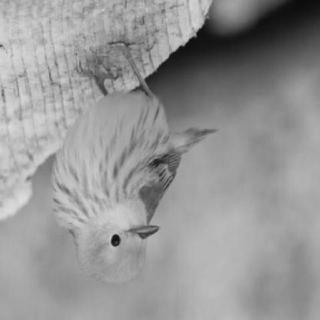other: (46, 83, 194, 283)
